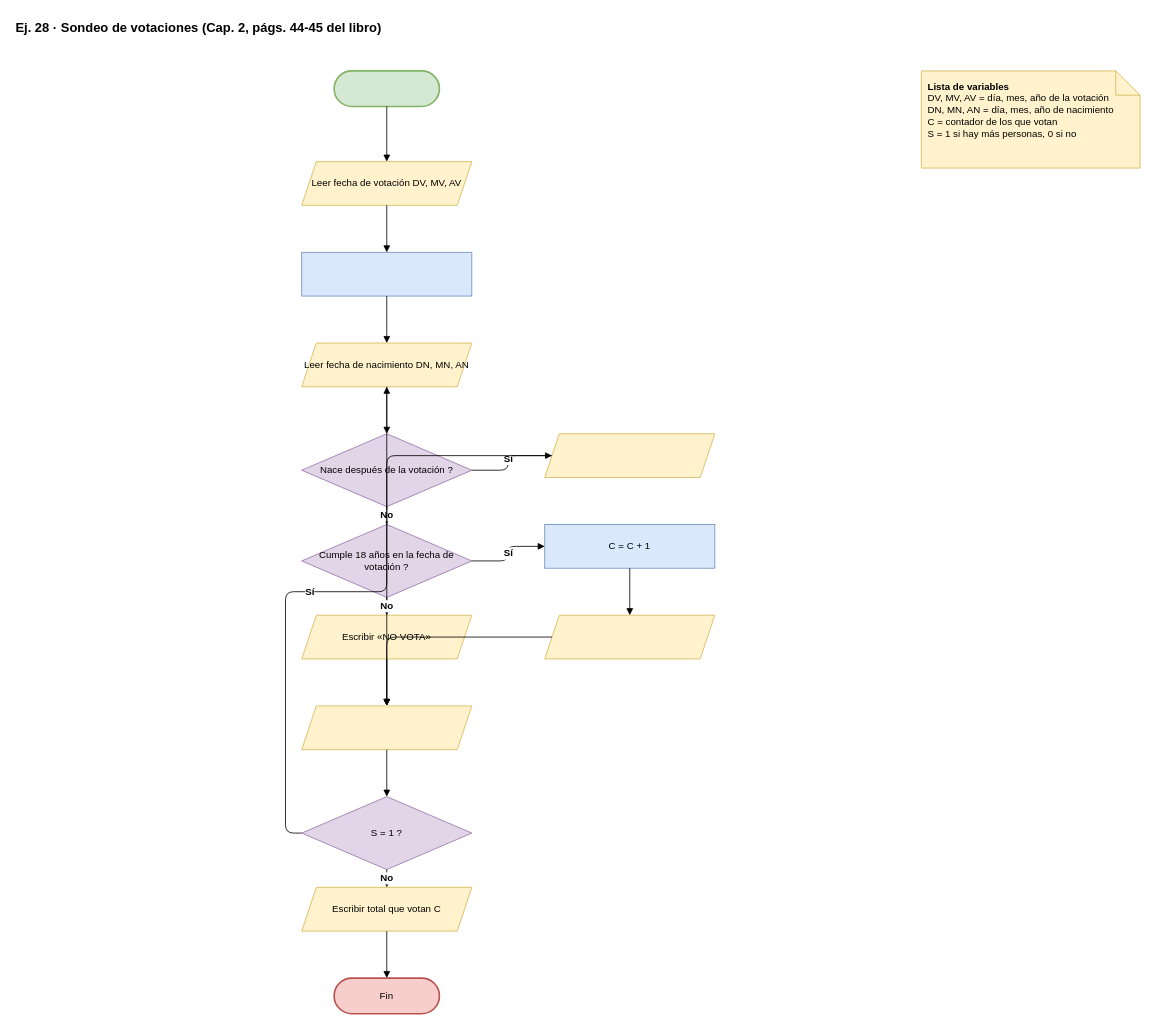
This 1154x1028 diagram has some shape labels left out. Here are the shapes that lost their labels. From the top down, the centre of each, then its label:
At pixel 386 88: "Inicio".
At pixel 386 274: "C = 0".
At pixel 629 455: "Escribir «Error en la fecha»".
At pixel 629 636: "Escribir «VOTA»".
At pixel 386 727: "Leer ¿Hay más? S".
